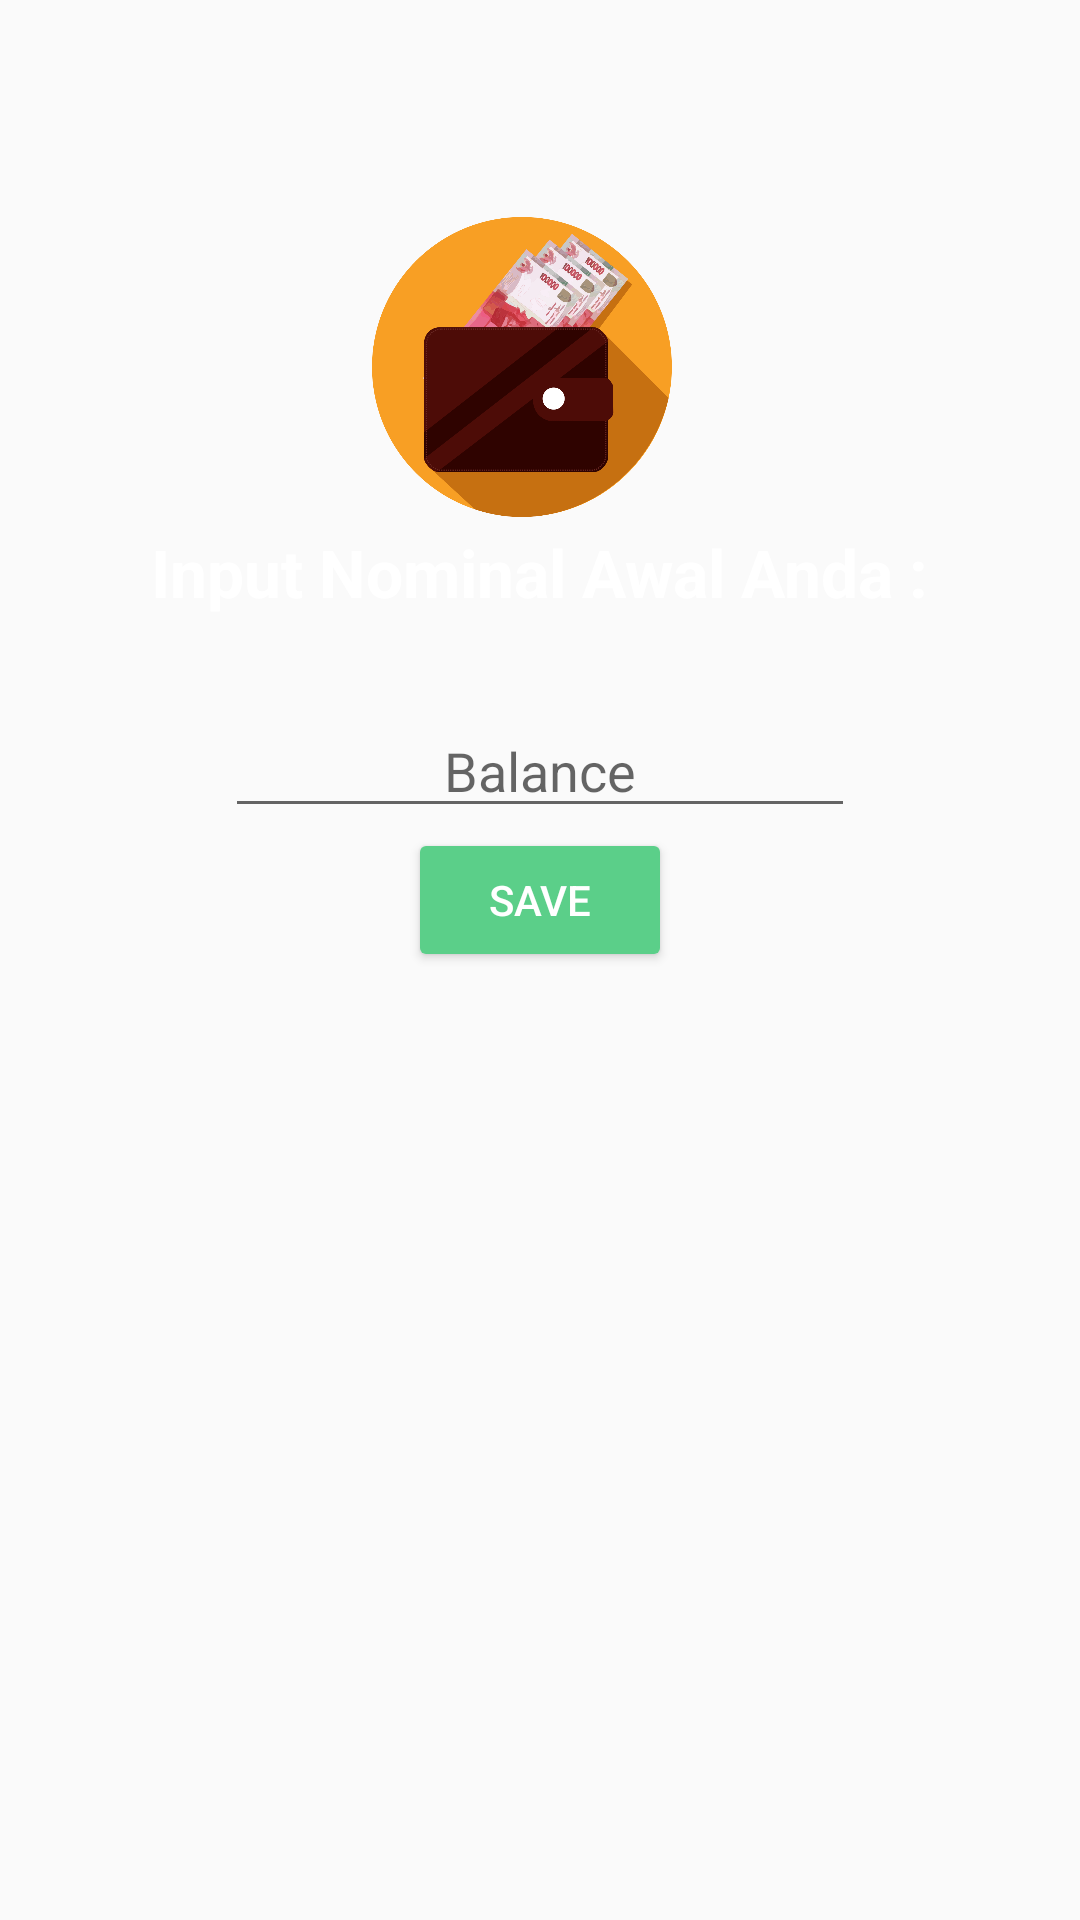

Point at icon controls on the screen. Image size 1080 x 1920, points as point (x, y).
dompet: point (522, 367)
